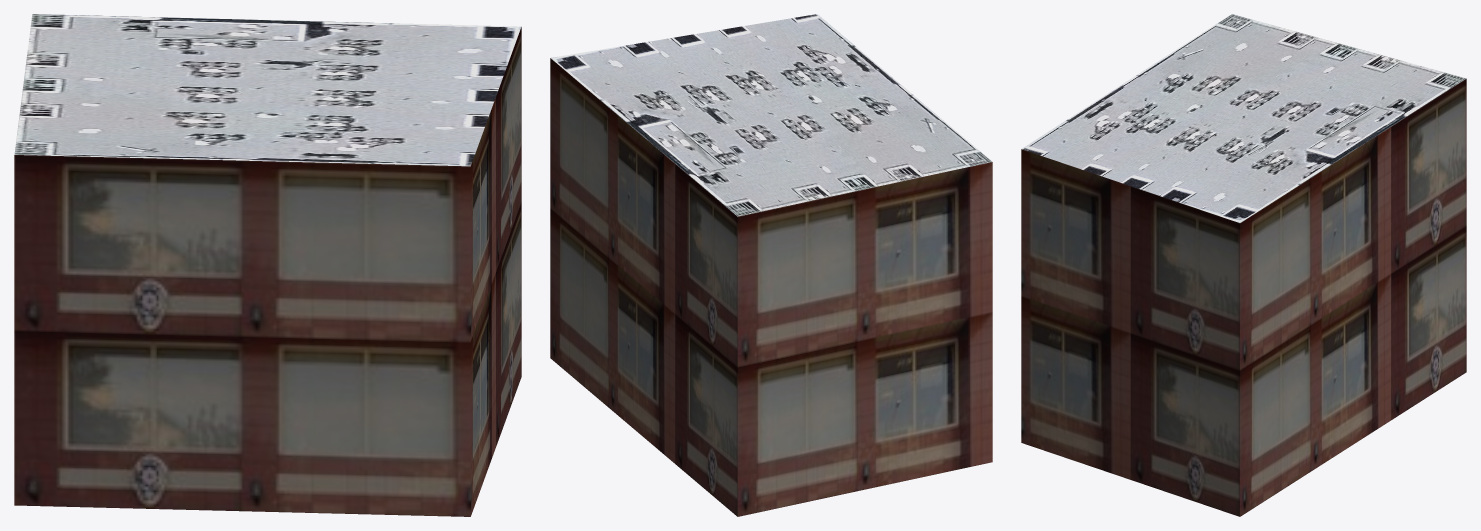
File: ResTex__2311.fbx
The picture shows the model from 3 angles, left to right: view 1: azimuth 30°, elevation 25°; view 2: azimuth 150°, elevation 25°; view 3: azimuth 270°, elevation 25°; orthographic projection. The views are drawn at different scales.
Visible parts, largest first — view 1: CityEngineMaterial_13_m, CityEngineMaterial_m; view 2: CityEngineMaterial_13_m, CityEngineMaterial_m; view 3: CityEngineMaterial_13_m, CityEngineMaterial_m.
Part boxes in pixels (x1,y1,x2,y2): CityEngineMaterial_13_m: [14, 27, 521, 516]; CityEngineMaterial_m: [14, 14, 521, 166]; CityEngineMaterial_13_m: [550, 58, 992, 516]; CityEngineMaterial_m: [551, 14, 992, 216]; CityEngineMaterial_13_m: [1021, 78, 1466, 516]; CityEngineMaterial_m: [1022, 14, 1466, 222].
Bounding box in the file's own units: 9.17 × 6 × 8.24.
Materials: 2 (2 with a texture image).
